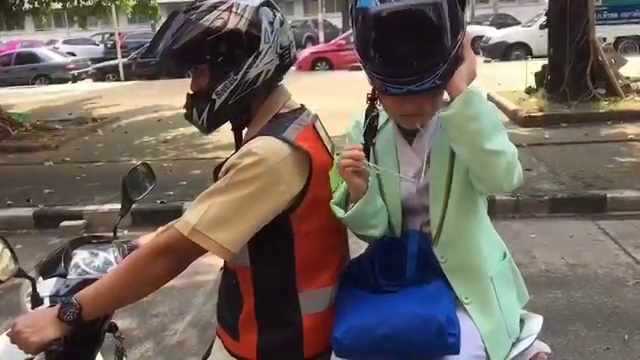helmet: (141, 1, 306, 133), (335, 3, 485, 95)
